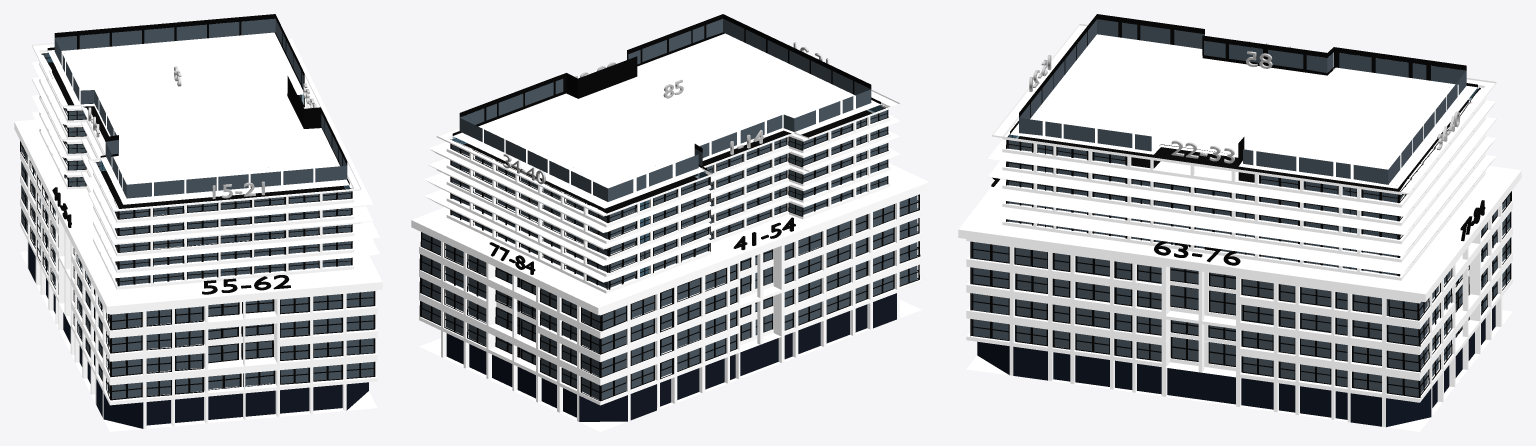
The model's file is 10CubittSquare.glb.
The picture shows the model from 3 angles, left to right: view 1: azimuth 30°, elevation 25°; view 2: azimuth 150°, elevation 25°; view 3: azimuth 270°, elevation 25°; orthographic projection. The views are drawn at different scales.
Visible parts, largest first — view 1: Plane.003, Drop85, Drop55, Drop62, Drop60, Drop57, Drop61, Drop58, Drop59, Drop56, Drop17, Drop20 (+4 smaller); view 2: Plane.003, Drop85, Drop41, Drop51, Drop42, Drop44, Drop50, Drop45, Drop53, Drop54, Drop77, Drop84 (+14 smaller); view 3: Plane.003, Drop85, Drop63, Drop66, Drop76, Drop64, Drop71, Drop73, Drop75, Drop69, Drop70, Drop68 (+7 smaller).
Boxes of the visible parts, <box> form: Plane.003: <box>14,14,382,431</box>; Drop85: <box>54,18,347,198</box>; Drop55: <box>112,312,141,399</box>; Drop62: <box>346,291,373,377</box>; Drop60: <box>280,297,308,383</box>; Drop57: <box>176,306,204,393</box>; Drop61: <box>313,294,341,380</box>; Drop58: <box>208,302,239,389</box>; Drop59: <box>242,299,273,385</box>; Drop56: <box>147,309,170,396</box>; Drop17: <box>187,203,216,278</box>; Drop20: <box>289,194,318,270</box>; Plane.003: <box>411,14,929,431</box>; Drop85: <box>459,19,871,201</box>; Drop41: <box>601,306,626,399</box>; Drop51: <box>827,221,850,313</box>; Drop42: <box>631,295,654,387</box>; Drop44: <box>677,278,699,370</box>; Drop50: <box>798,232,820,324</box>; Drop45: <box>705,269,725,360</box>; Drop53: <box>873,204,894,295</box>; Drop54: <box>899,195,917,285</box>; Drop77: <box>422,232,440,324</box>; Drop84: <box>582,308,600,399</box>; Plane.003: <box>958,14,1521,431</box>; Drop85: <box>1019,19,1466,184</box>; Drop63: <box>971,242,1008,340</box>; Drop66: <box>1075,256,1109,353</box>; Drop76: <box>1386,299,1417,397</box>; Drop64: <box>1015,248,1047,344</box>; Drop71: <box>1241,279,1273,375</box>; Drop73: <box>1300,287,1330,383</box>; Drop75: <box>1352,294,1381,390</box>; Drop69: <box>1170,267,1198,360</box>; Drop70: <box>1209,272,1235,365</box>; Drop68: <box>1137,264,1161,360</box>.
Size of the model in its own units: 19.92 by 13.84 by 25.15.
6 materials, 1 textured.
